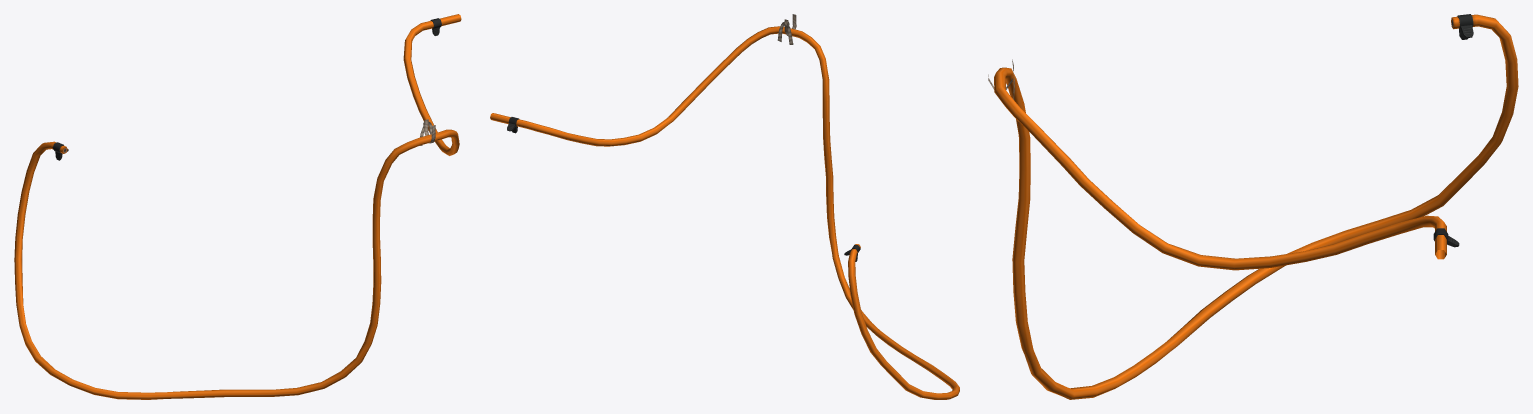
The model's file is jsf_GasRange_18d.fbx.
The picture shows the model from 3 angles, left to right: view 1: azimuth 30°, elevation 25°; view 2: azimuth 150°, elevation 25°; view 3: azimuth 270°, elevation 25°; orthographic projection. The views are drawn at different scales.
Parts seen in each view (by area): view 1: GasHose; view 2: GasHose; view 3: GasHose.
Boxes of the visible parts, x1,y1,x2,y2 form: GasHose: [14, 14, 461, 399]; GasHose: [490, 14, 959, 399]; GasHose: [988, 14, 1518, 399].
Bounding box in the file's own units: 119 × 68.15 × 77.86.
